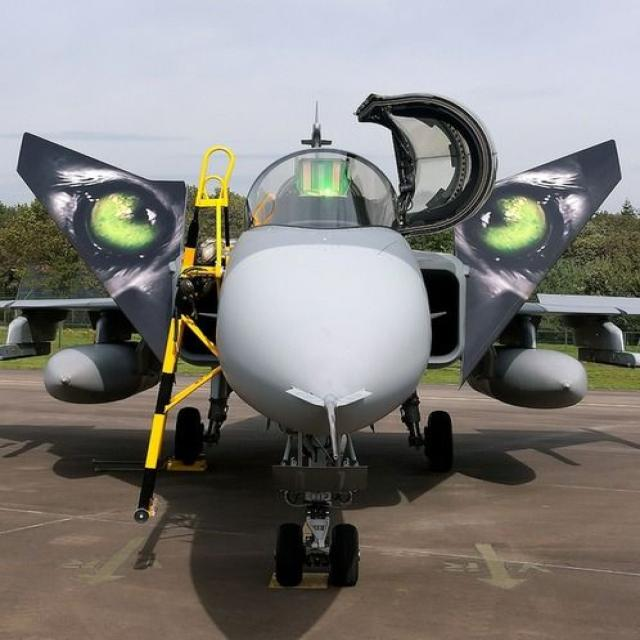MIL_Plane: (1, 92, 640, 585)
